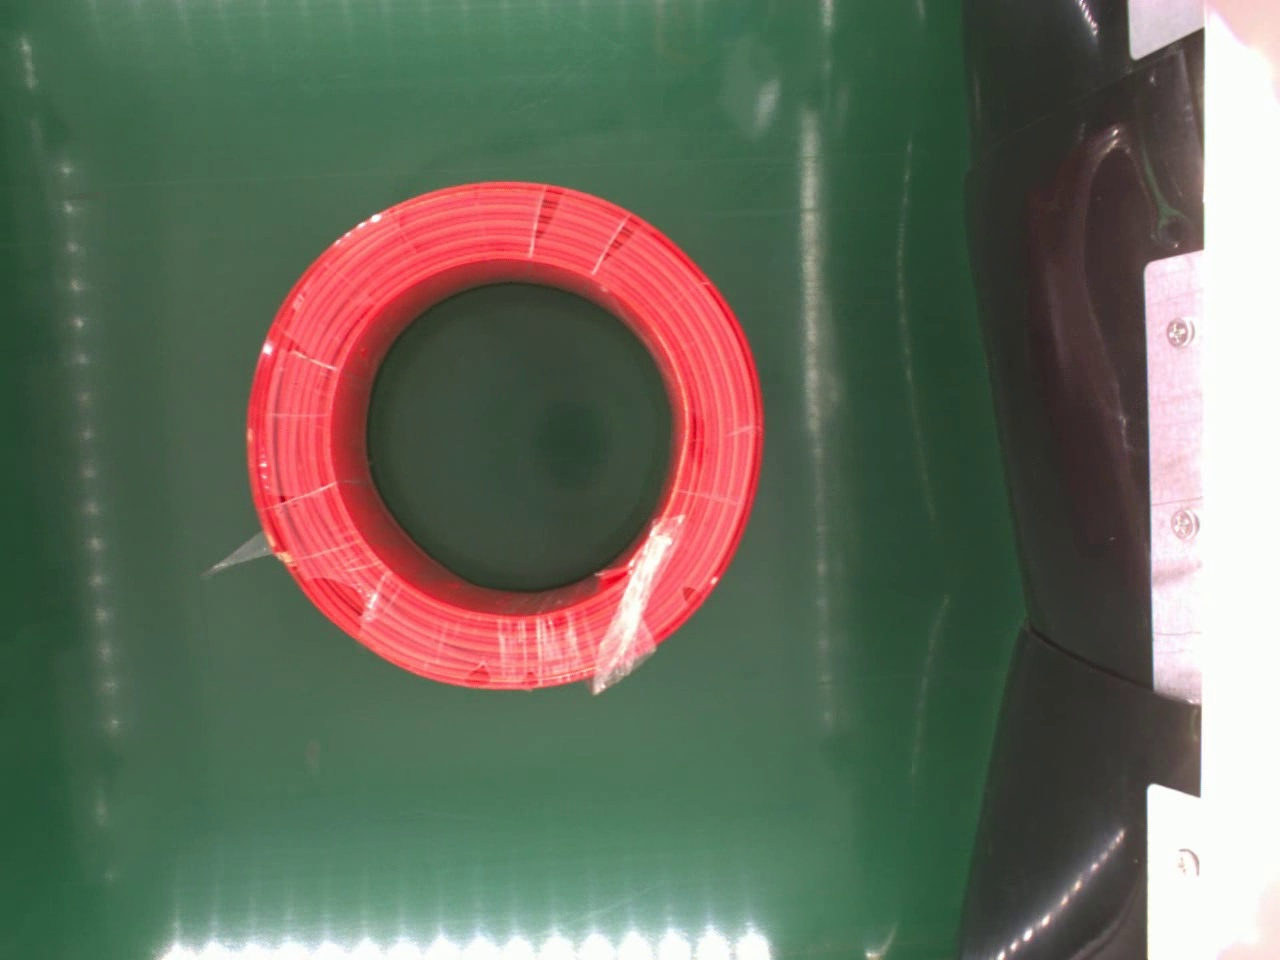red: (244, 177, 761, 694)
